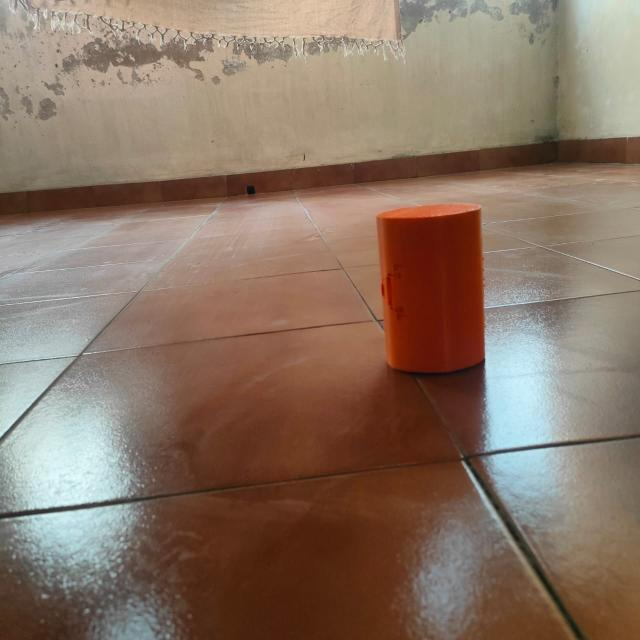Cylinder: (375, 202, 485, 374)
